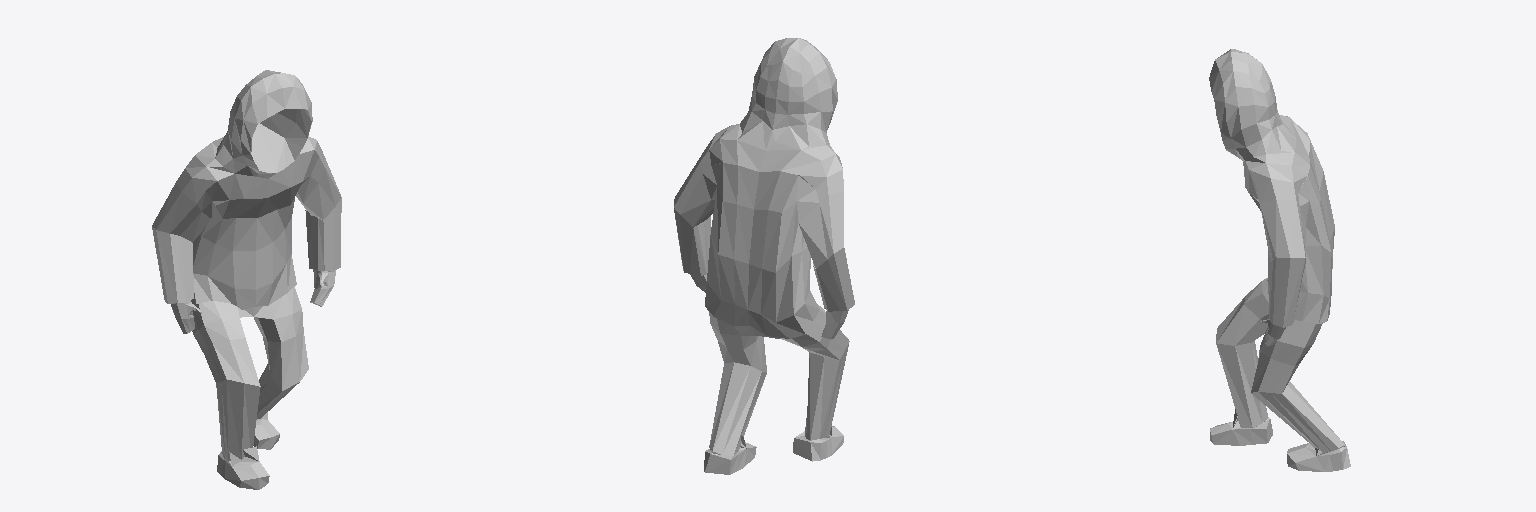
The model's file is Shadowmanv_000029.obj.
The picture shows the model from 3 angles: view 1: azimuth 30°, elevation 25°; view 2: azimuth 150°, elevation 25°; view 3: azimuth 270°, elevation 25°; orthographic projection.
Visible parts, largest first — view 1: Cube.000; view 2: Cube.000; view 3: Cube.000.
Boxes of the visible parts, x1,y1,x2,y2 form: Cube.000: [152, 70, 341, 489]; Cube.000: [674, 38, 854, 474]; Cube.000: [1209, 49, 1350, 471].
Size of the model in its own units: 4.96 by 10.85 by 3.46.